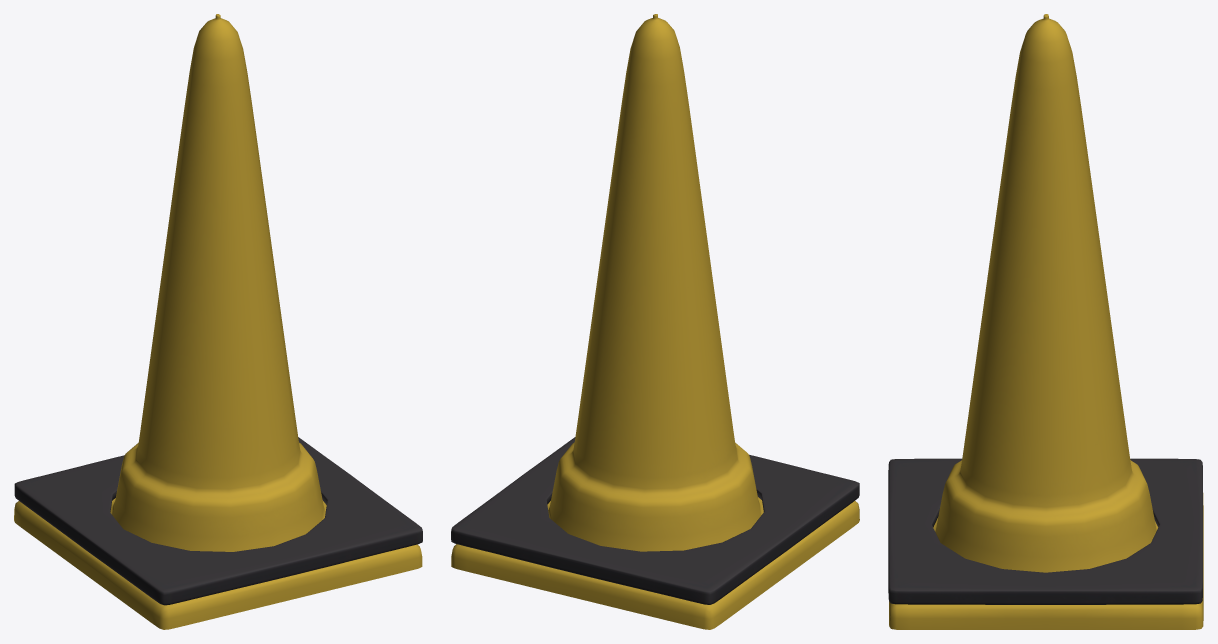
Rendered from ColorCone_Basic_Yellow.fbx.
3 renders of one model, left to right at view 1: azimuth 30°, elevation 25°; view 2: azimuth 150°, elevation 25°; view 3: azimuth 270°, elevation 25°, orthographic. The views are drawn at different scales.
Parts seen in each view (by area): view 1: ColorCone_Basic_Yellow; view 2: ColorCone_Basic_Yellow; view 3: ColorCone_Basic_Yellow.
Part boxes in pixels (left/top/right/bottom): ColorCone_Basic_Yellow: left=14, top=14, right=422, bottom=629; ColorCone_Basic_Yellow: left=451, top=14, right=859, bottom=629; ColorCone_Basic_Yellow: left=888, top=14, right=1203, bottom=629.
Bounding box in the file's own units: 38.04 × 38.06 × 73.14.
Materials: 1 (1 with a texture image).
